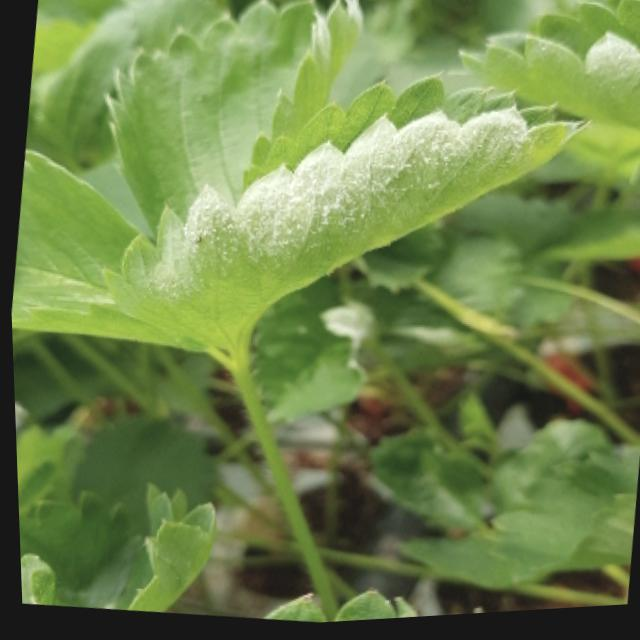Powdery Mildew Leaf: (96, 76, 581, 370), (15, 483, 212, 614), (453, 4, 640, 141)
